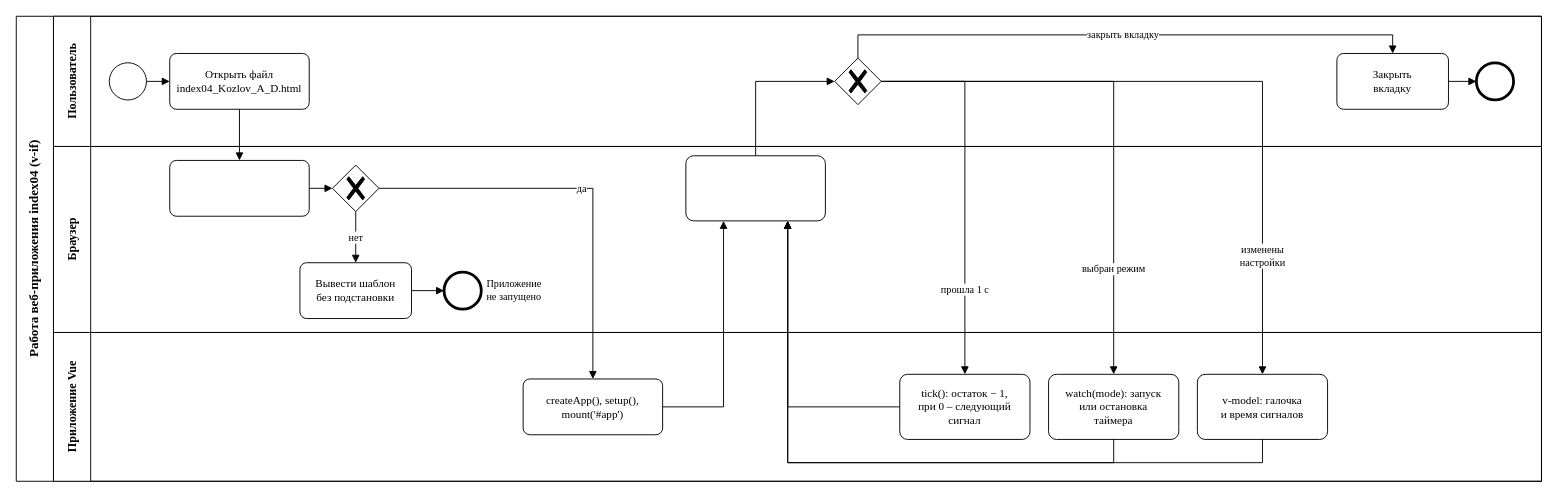
This 1558x498 diagram has some shape labels left out. The shapes that lost their labels are listed below. From the top down, each one's centre as x and y in pixels, then its label:
(x=127, y=81): Нужно открыть приложение
(x=857, y=81): Событие?
(x=1495, y=81): Работа завершена
(x=239, y=187): Разобрать HTML, загрузить vue.global.js
(x=355, y=188): Ядро загружено?
(x=755, y=188): Отрисовать светофор, надпись и настройки (v-if / v-else)
